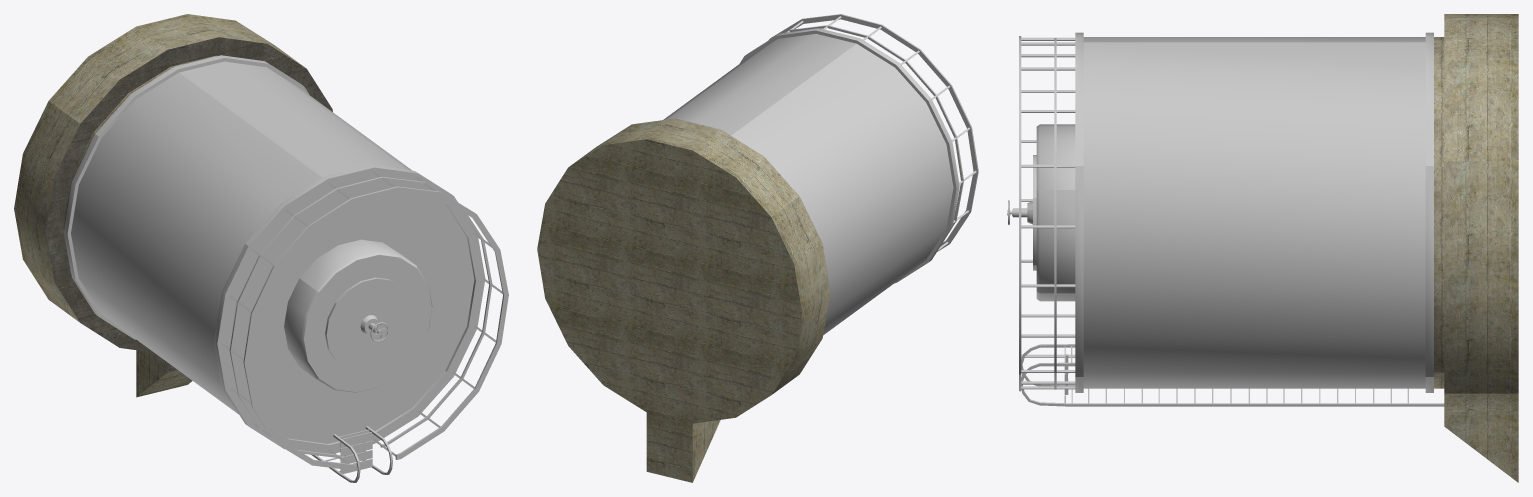
Rendered from tank_2.fbx.
The picture shows the model from 3 angles, left to right: view 1: azimuth 30°, elevation 25°; view 2: azimuth 150°, elevation 25°; view 3: azimuth 270°, elevation 25°; orthographic projection. The views are drawn at different scales.
Visible parts, largest first — view 1: MSH-Object; view 2: MSH-Object; view 3: MSH-Object.
Boxes of the visible parts, x1,y1,x2,y2 form: MSH-Object: (14, 14, 508, 482); MSH-Object: (537, 14, 978, 482); MSH-Object: (1007, 14, 1518, 482).
Bounding box in the file's own units: 31.02 × 37.18 × 39.71.
